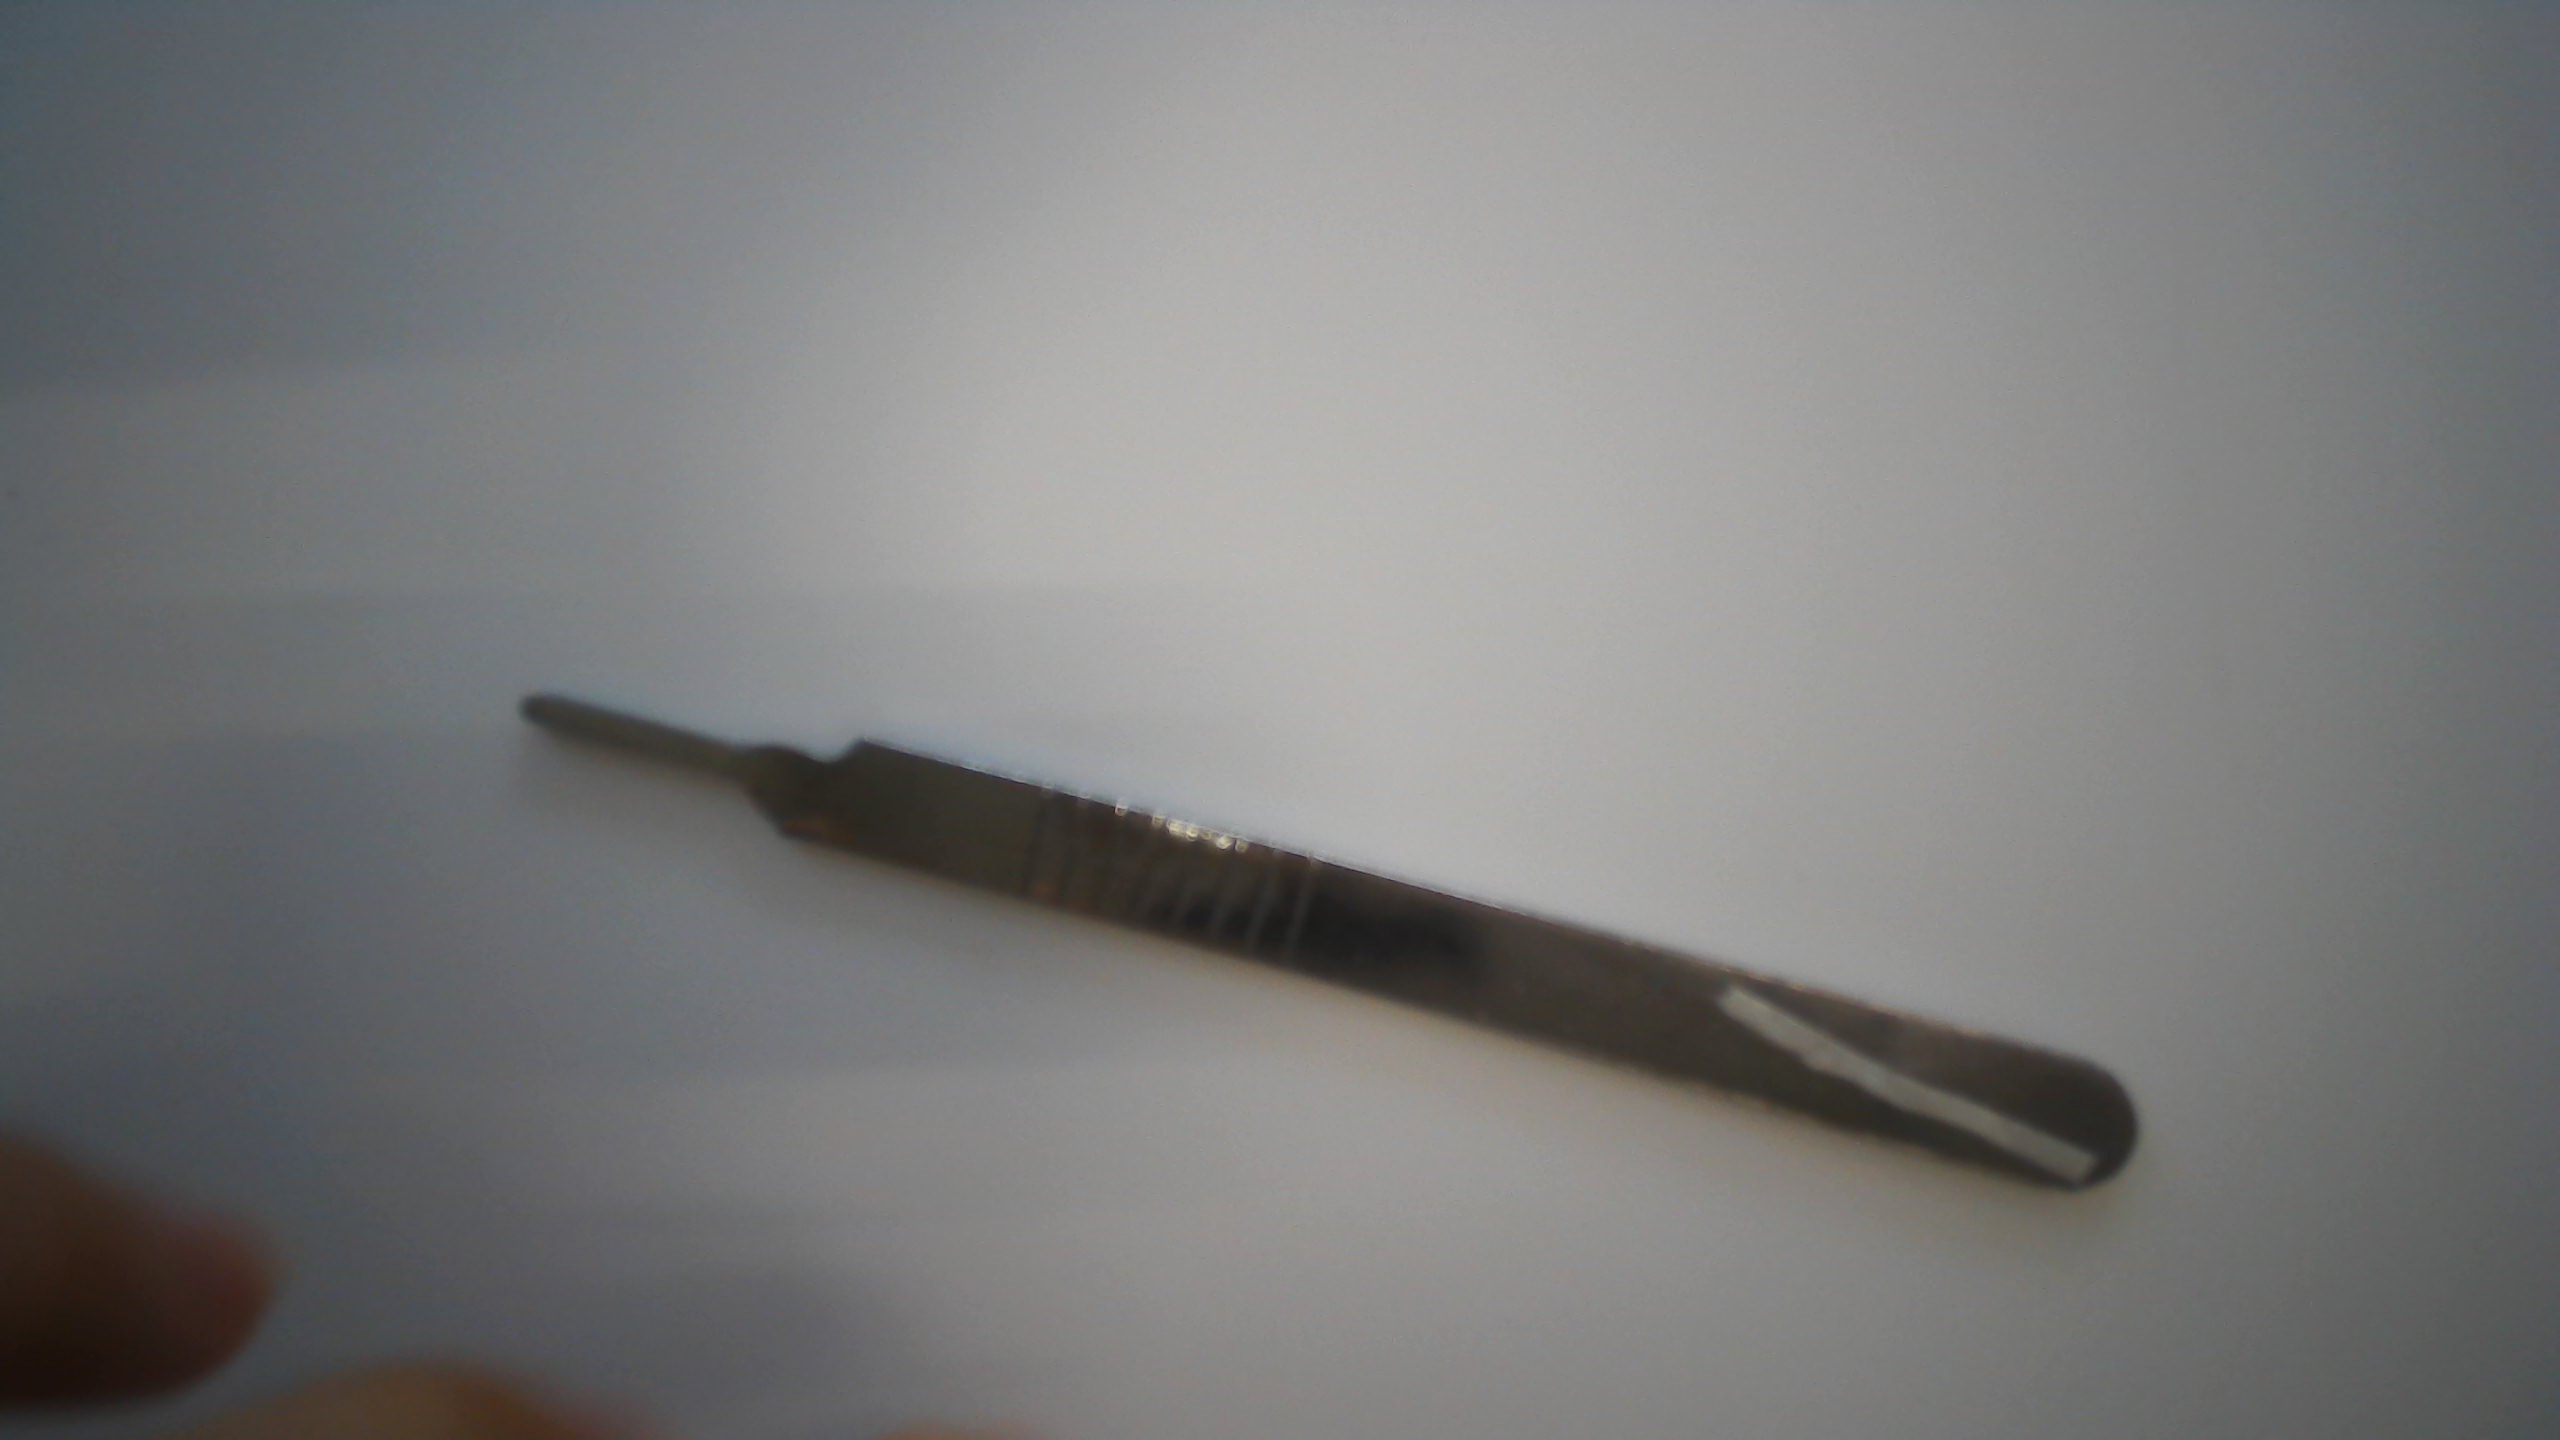Scratches: (1707, 978, 2107, 1187)
